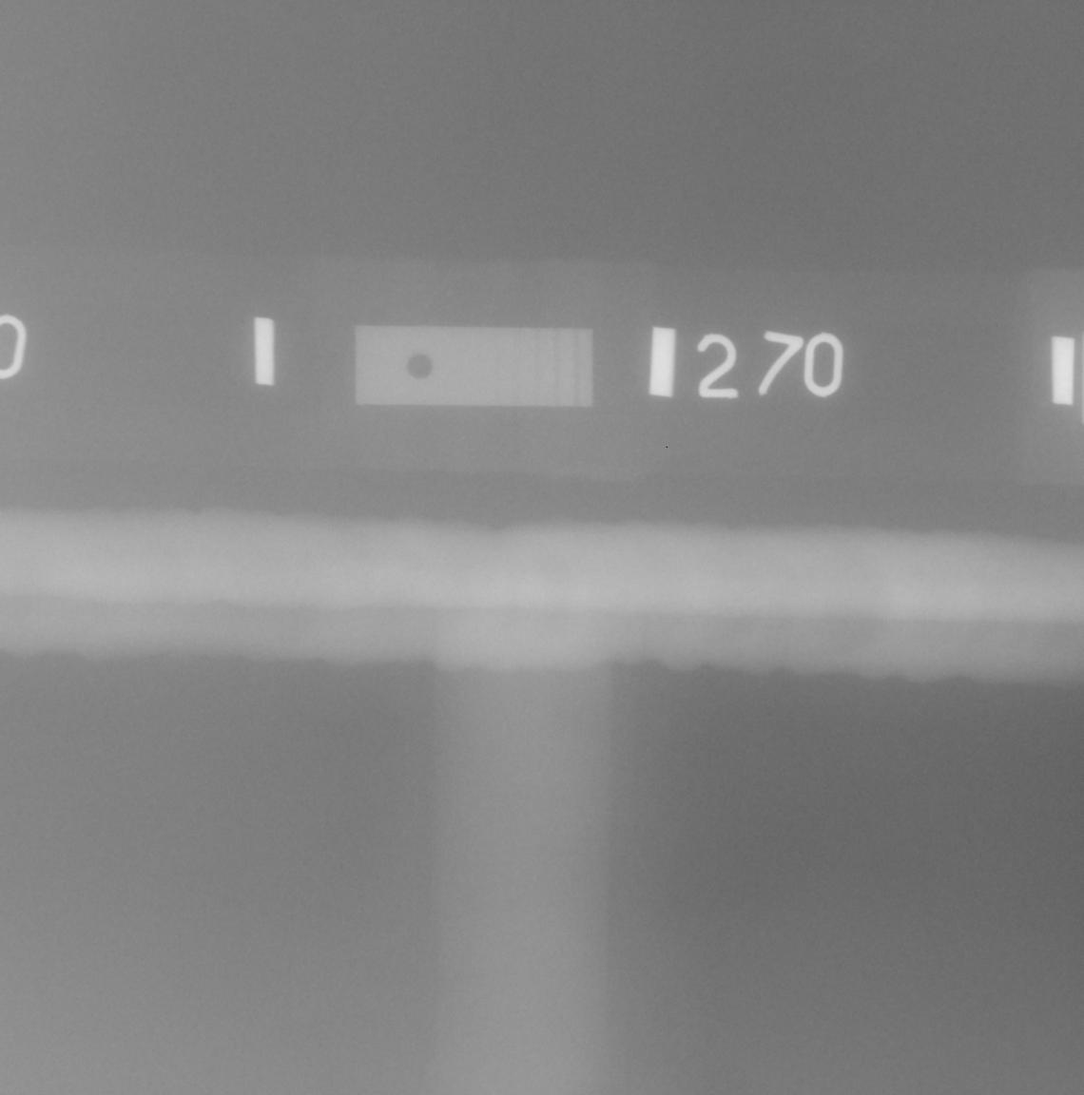Reference Standard 1: (355, 326, 593, 407)
